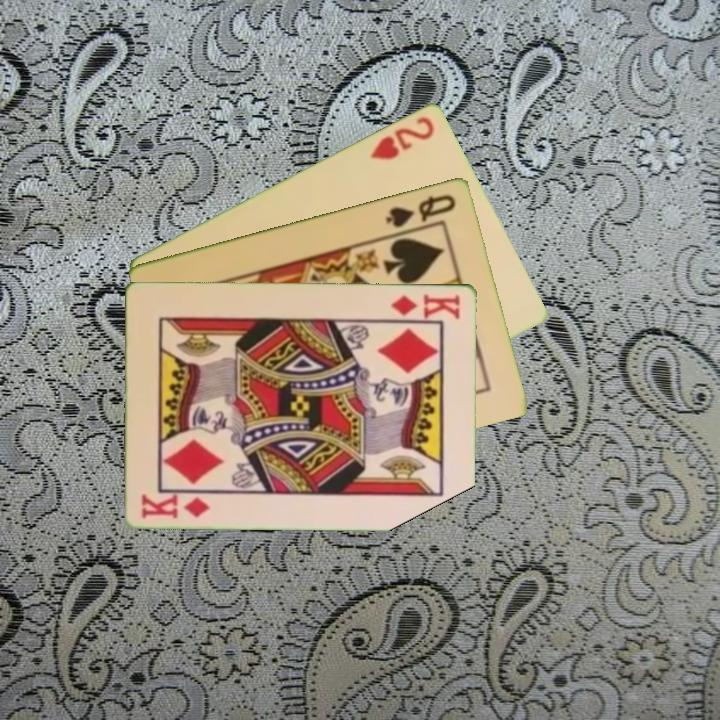2h: (367, 112, 438, 162)
Kd: (388, 290, 464, 321), (138, 490, 213, 521)
Qs: (382, 190, 459, 230)
